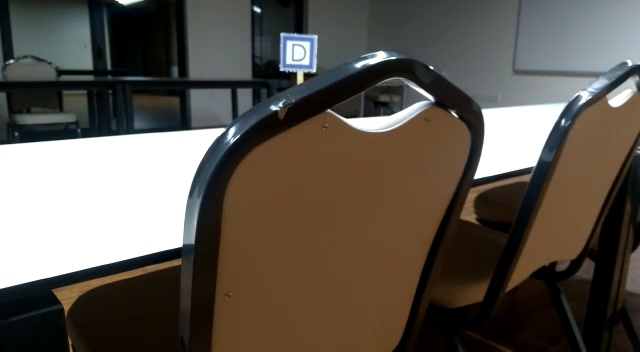durak: (277, 33, 319, 74)
